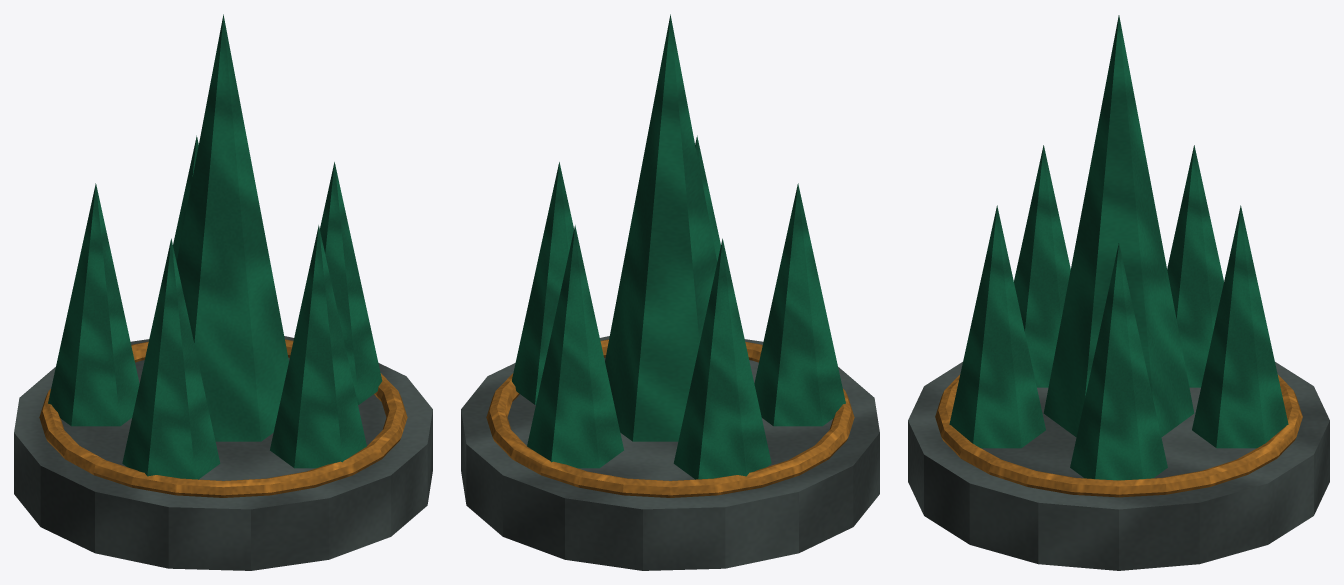
Rendered from crystal_array.glb.
3 views of the same model, side by side, from view 1: azimuth 30°, elevation 25°; view 2: azimuth 150°, elevation 25°; view 3: azimuth 270°, elevation 25° (orthographic).
Visible parts, largest first — view 1: crystal_array_Jade, crystal_array_Stone, crystal_array_Brass; view 2: crystal_array_Jade, crystal_array_Stone, crystal_array_Brass; view 3: crystal_array_Jade, crystal_array_Stone, crystal_array_Brass.
Part boxes in pixels (x1,y1,x2,y2): crystal_array_Jade: [48, 14, 382, 479]; crystal_array_Stone: [14, 336, 432, 570]; crystal_array_Brass: [39, 339, 407, 497]; crystal_array_Jade: [511, 14, 845, 479]; crystal_array_Stone: [461, 336, 879, 570]; crystal_array_Brass: [486, 339, 854, 497]; crystal_array_Jade: [949, 15, 1288, 480]; crystal_array_Stone: [908, 362, 1329, 570]; crystal_array_Brass: [935, 374, 1302, 497].
Size of the model in its own units: 1.12 by 1.37 by 1.12.
3 materials, 3 textured.
